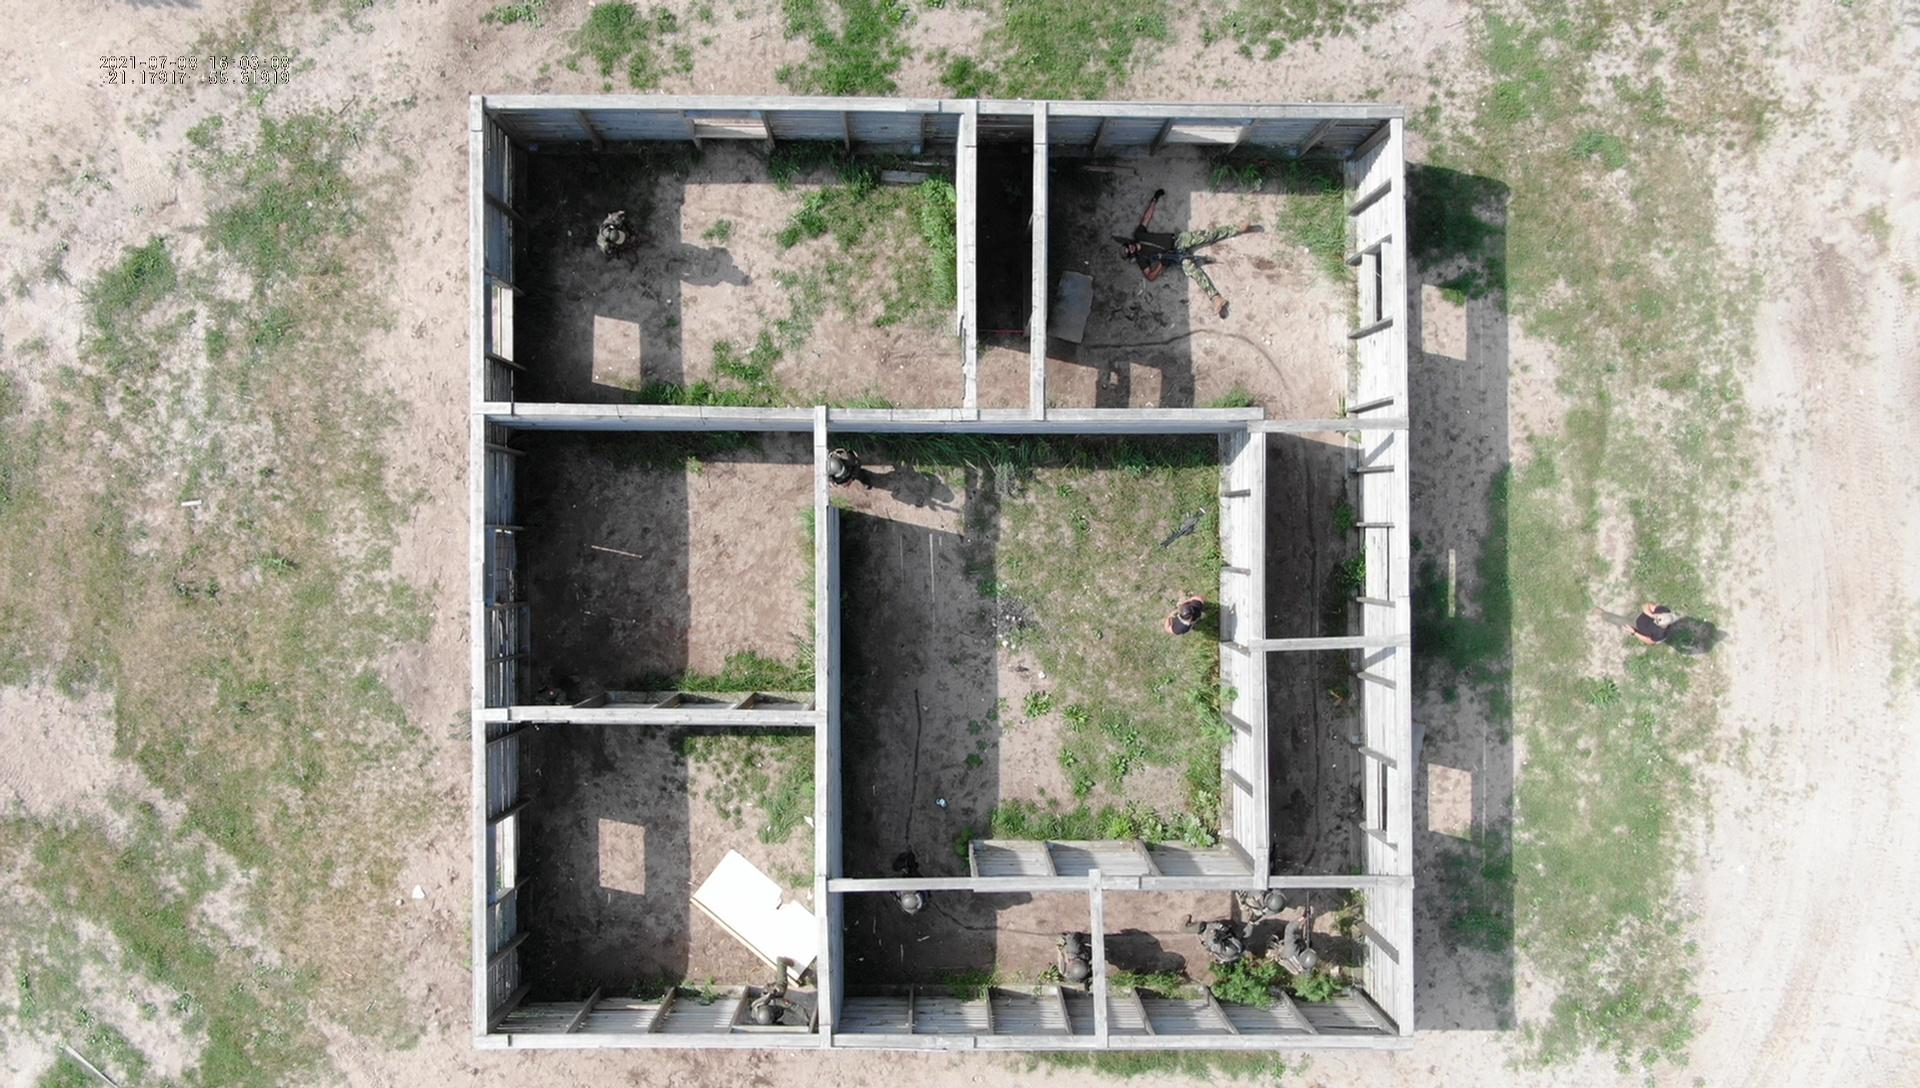Soldier: (1124, 211, 1265, 324), (744, 957, 822, 1026), (1156, 580, 1222, 654), (1176, 914, 1251, 979), (1273, 892, 1323, 988), (1054, 918, 1097, 1006), (1229, 885, 1302, 934), (597, 210, 655, 268), (827, 447, 873, 495)
